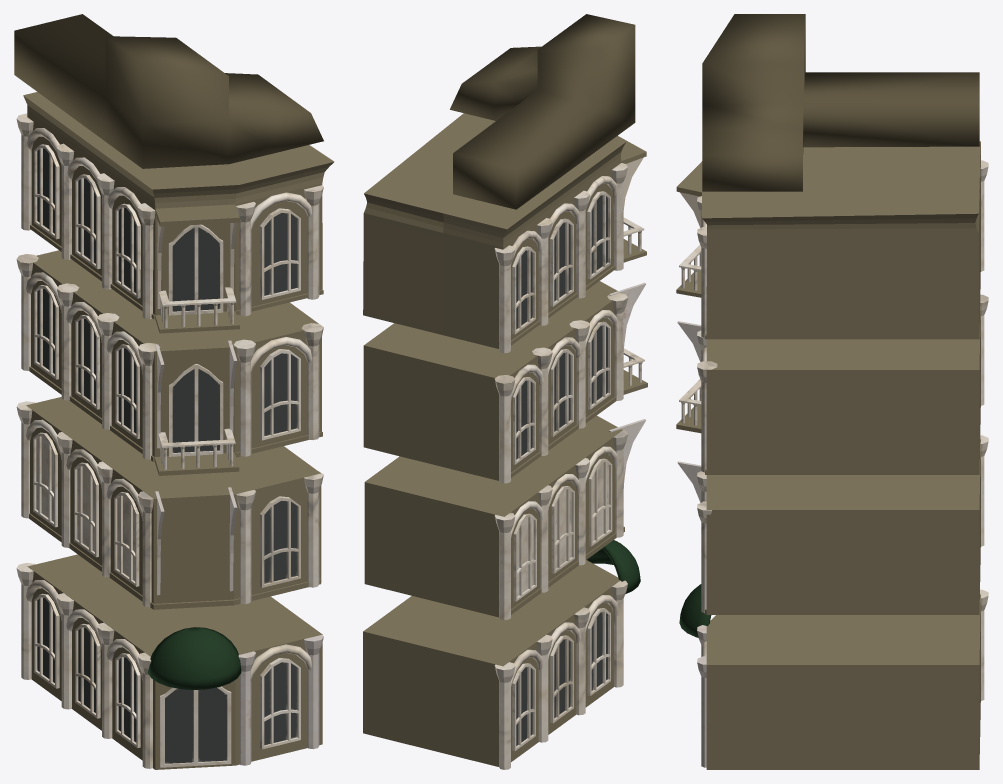
The model's file is CornerBuildingMirrored.fbx.
3 views of the same model, side by side, from view 1: azimuth 30°, elevation 25°; view 2: azimuth 150°, elevation 25°; view 3: azimuth 270°, elevation 25° (orthographic). The views are drawn at different scales.
Visible parts, largest first — view 1: Cube.036, Sphere.002, Cube.024, Cylinder.004, Cube.037; view 2: Cube.036, Sphere.002, Cube.024, Cylinder.004, Cube.037; view 3: Cube.036, Sphere.002, Cube.024, Cylinder.004, Cube.037.
Boxes of the visible parts, x1,y1,x2,y2 form: Cube.036: [16, 92, 334, 333]; Sphere.002: [16, 554, 323, 769]; Cube.024: [16, 397, 323, 609]; Cylinder.004: [16, 250, 323, 475]; Cube.037: [14, 14, 323, 168]; Cube.036: [363, 113, 646, 353]; Sphere.002: [363, 540, 640, 769]; Cube.024: [364, 415, 645, 620]; Cylinder.004: [363, 281, 647, 483]; Cube.037: [450, 14, 635, 209]; Cube.036: [676, 141, 988, 339]; Sphere.002: [679, 584, 988, 769]; Cube.024: [677, 435, 988, 614]; Cylinder.004: [676, 294, 988, 474]; Cube.037: [702, 14, 979, 191].
Size of the model in its own units: 624 by 2424 by 1011.
1 material, 1 textured.
